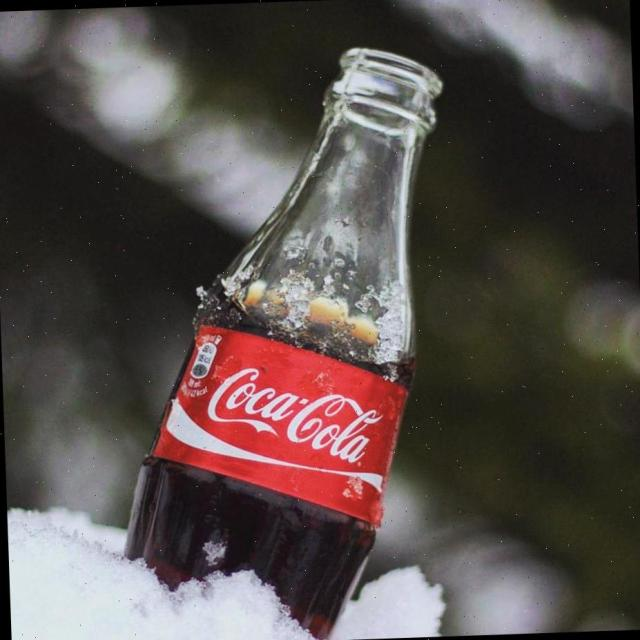coca-cola: (105, 43, 462, 640)
